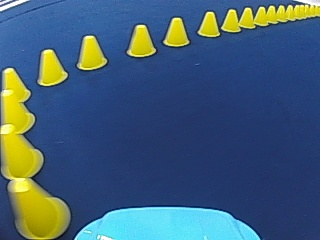cone: (8, 178, 68, 236), (0, 67, 35, 131), (0, 127, 44, 177), (35, 47, 67, 85), (75, 34, 107, 70), (1, 67, 31, 104), (125, 23, 156, 57), (162, 16, 189, 46), (197, 10, 220, 37), (221, 8, 240, 32), (238, 6, 254, 28), (253, 5, 267, 25), (265, 5, 277, 22), (276, 4, 286, 20), (285, 4, 294, 19)
